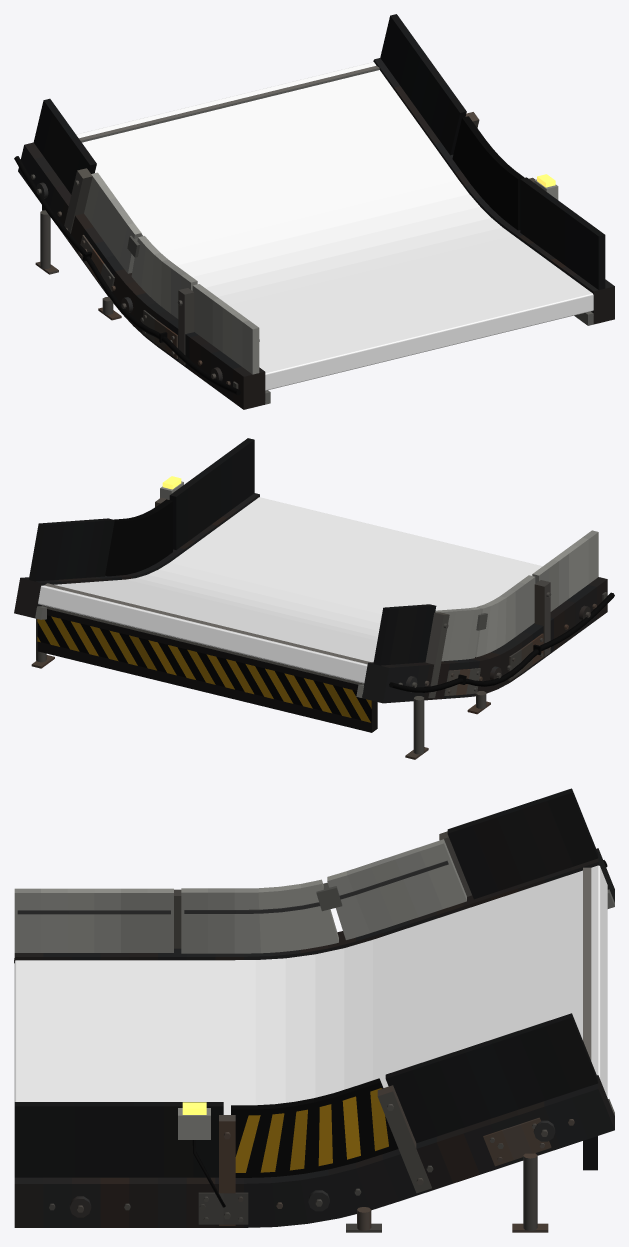
Rendered from conveyor_loader.glb.
The picture shows the model from 3 angles, top to bottom: view 1: azimuth 30°, elevation 25°; view 2: azimuth 150°, elevation 25°; view 3: azimuth 270°, elevation 25°; orthographic projection. The views are drawn at different scales.
Parts seen in each view (by area): view 1: Belt, Frame; view 2: Frame, Belt; view 3: Frame, Belt.
Boxes of the visible parts, x1=… form: Belt: x1=76, y1=62, x2=593, y2=390; Frame: x1=14, y1=14, x2=614, y2=409; Frame: x1=14, y1=438, x2=614, y2=759; Belt: x1=38, y1=497, x2=542, y2=683; Frame: x1=14, y1=788, x2=614, y2=1232; Belt: x1=14, y1=865, x2=607, y2=1114.
Bounding box in the file's own units: 1.99 × 0.7534 × 2.
